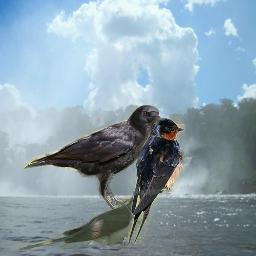Crow: (20, 104, 161, 216)
Cuckoo: (15, 192, 148, 253)
Swallow: (125, 116, 185, 244)
